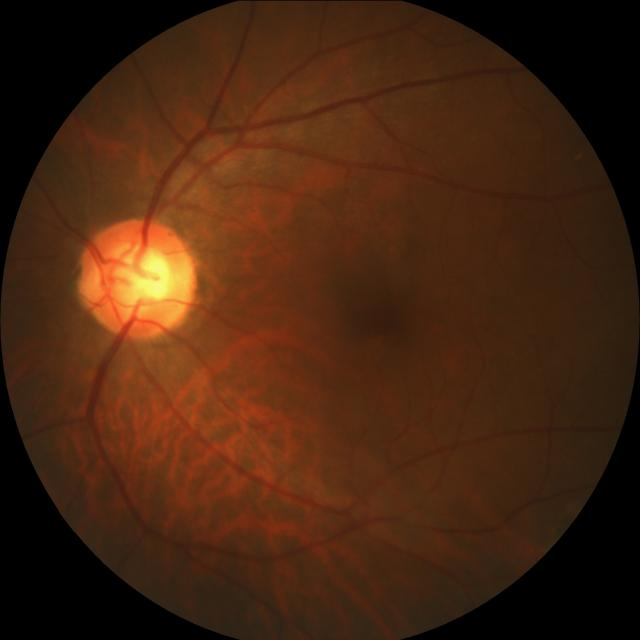OC: (102, 243, 176, 309)
OD: (79, 216, 199, 337)
